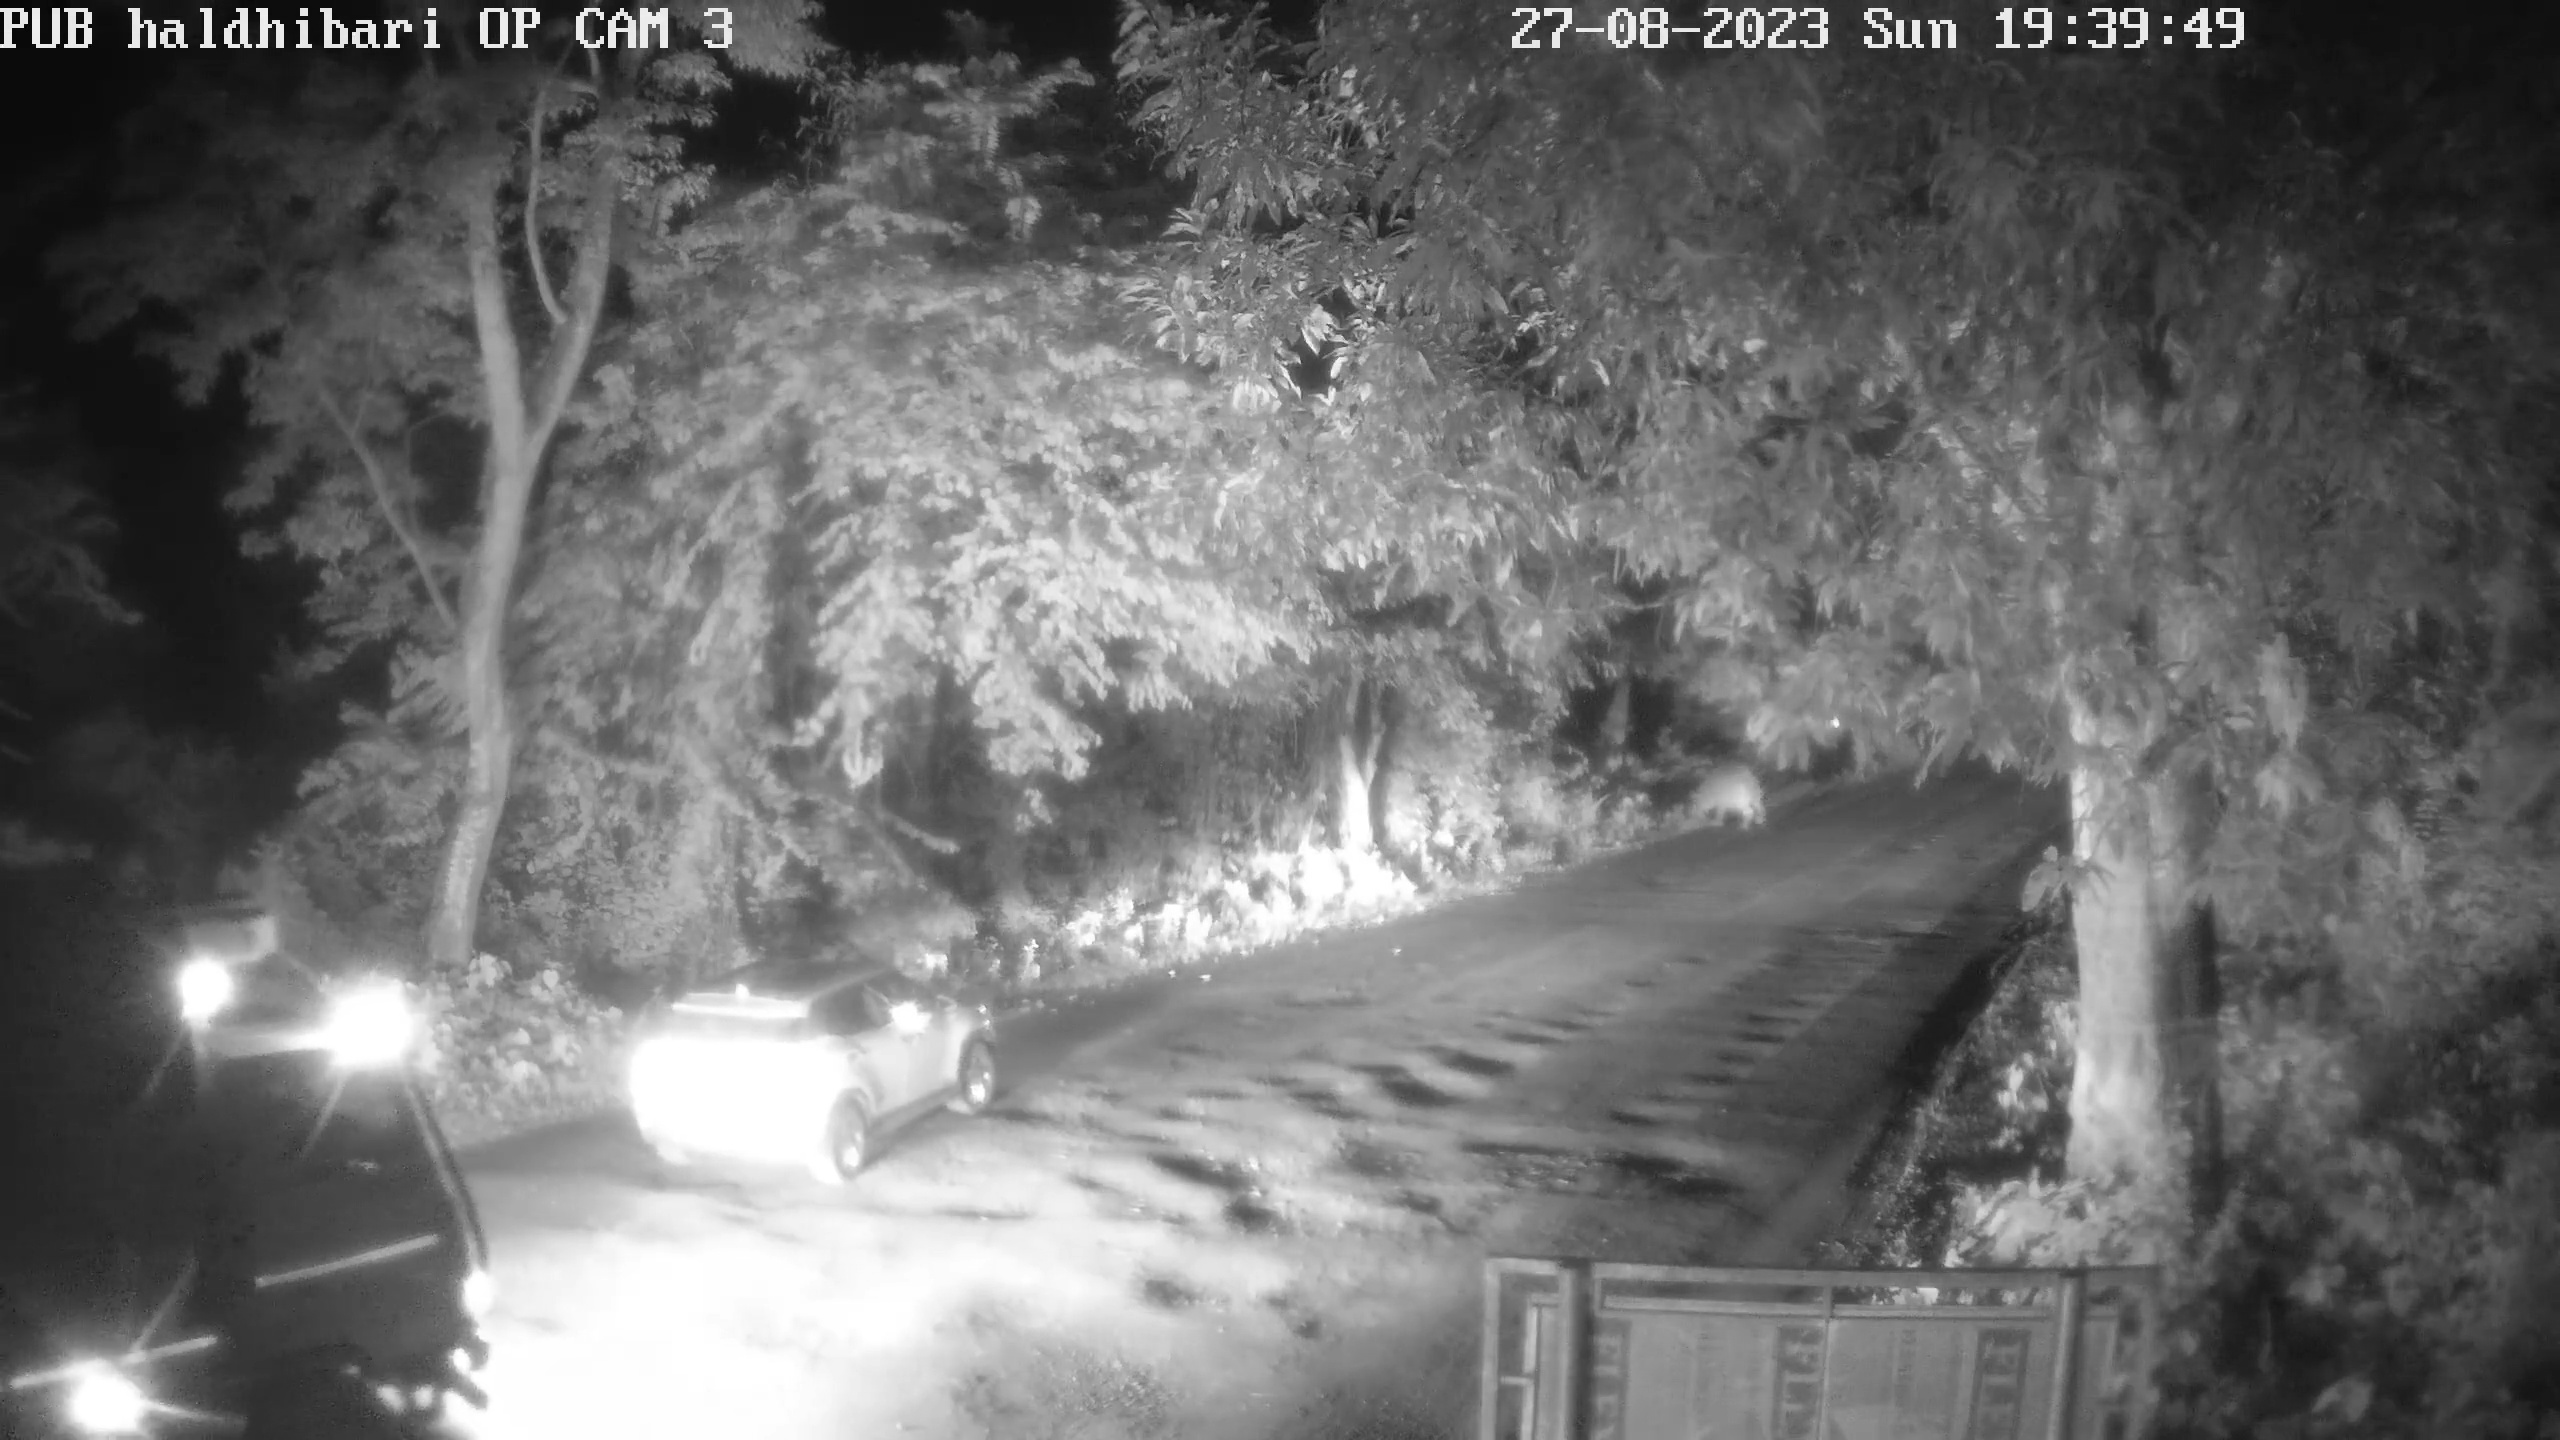rhinos: (1681, 749, 1762, 830)
